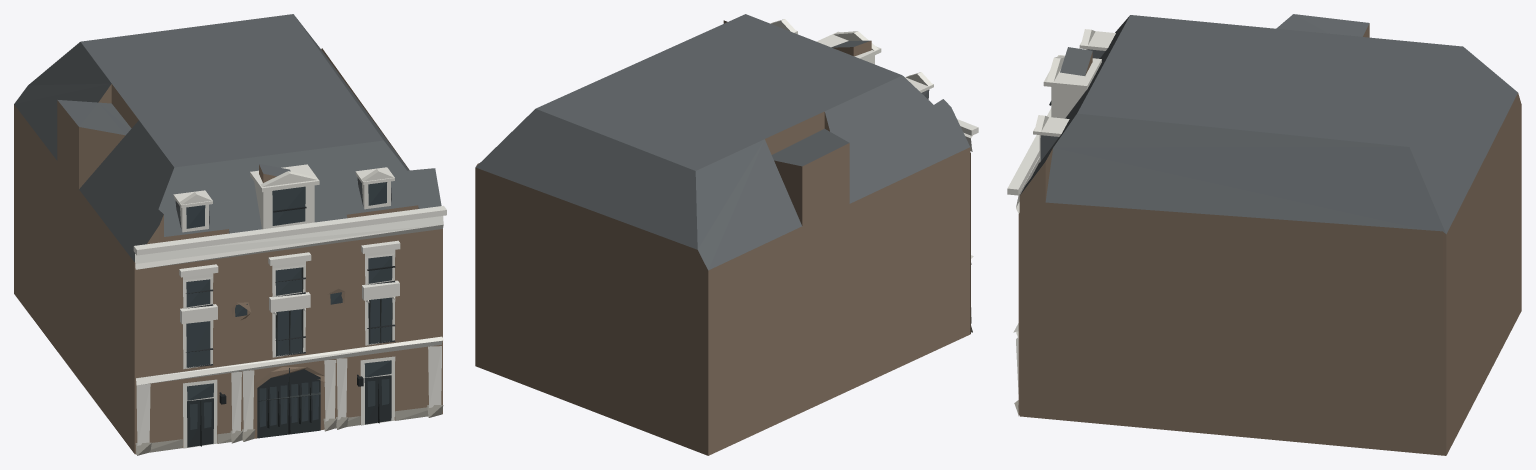
File: koetshuis-keizersgracht-607.lod1.glb
The picture shows the model from 3 angles, left to right: view 1: azimuth 30°, elevation 25°; view 2: azimuth 150°, elevation 25°; view 3: azimuth 270°, elevation 25°; orthographic projection. The views are drawn at different scales.
Visible parts, largest first — view 1: koetshuis-keizersgracht-607; view 2: koetshuis-keizersgracht-607; view 3: koetshuis-keizersgracht-607.
Part boxes in pixels (left/top/right/bottom): koetshuis-keizersgracht-607: left=14, top=14, right=446, bottom=455; koetshuis-keizersgracht-607: left=475, top=14, right=978, bottom=455; koetshuis-keizersgracht-607: left=1007, top=14, right=1521, bottom=455.
Bounding box in the file's own units: 18.76 × 13.47 × 21.95.
